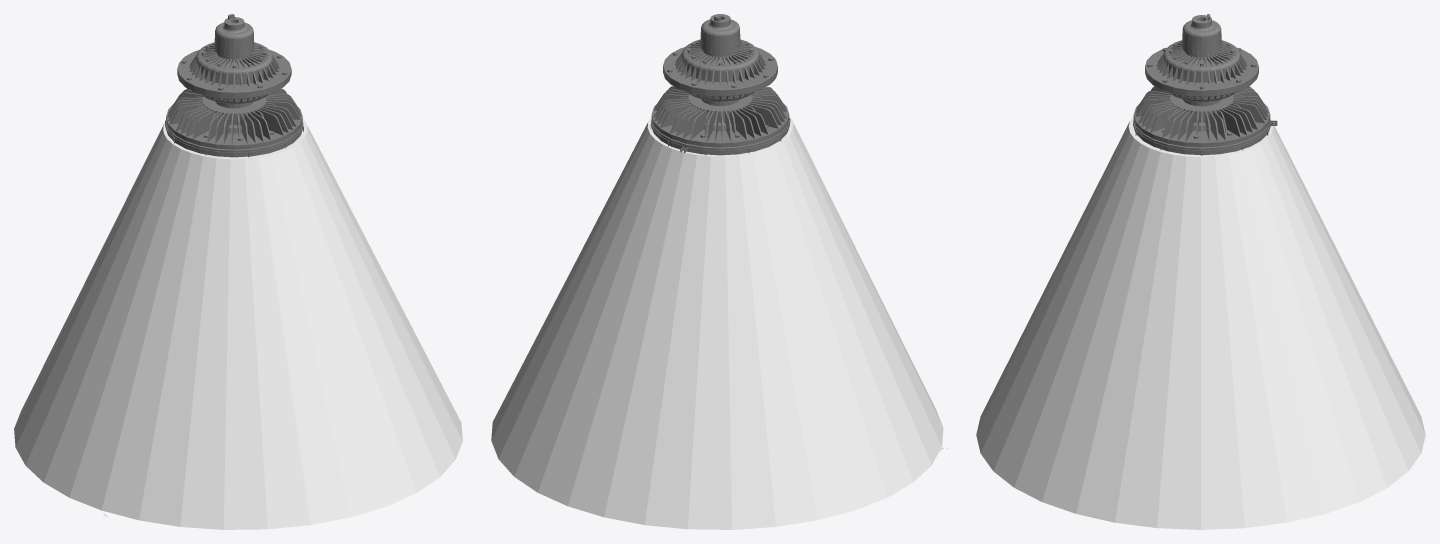
File: EVLLA.obj
3 renders of one model, left to right at view 1: azimuth 30°, elevation 25°; view 2: azimuth 150°, elevation 25°; view 3: azimuth 270°, elevation 25°, orthographic.
Visible parts, largest first — view 1: Cylinder, EVLL13LCA21_UNV1; view 2: Cylinder, EVLL13LCA21_UNV1; view 3: Cylinder, EVLL13LCA21_UNV1.
Part boxes in pixels (x1,y1,x2,y2): Cylinder: (14, 118, 462, 529); EVLL13LCA21_UNV1: (165, 14, 303, 157); Cylinder: (491, 116, 943, 529); EVLL13LCA21_UNV1: (650, 14, 790, 155); Cylinder: (976, 116, 1425, 529); EVLL13LCA21_UNV1: (1133, 14, 1277, 155).
Size of the model in its own units: 52.68 by 54.56 by 52.68.
Materials: 3 (2 with a texture image).
